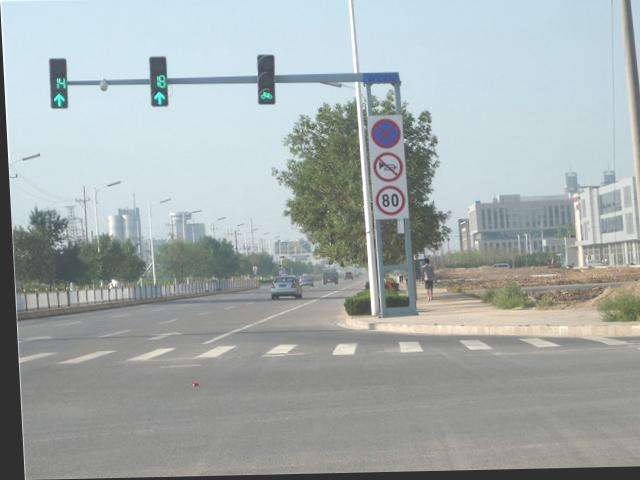limit80: (371, 186, 406, 217)
